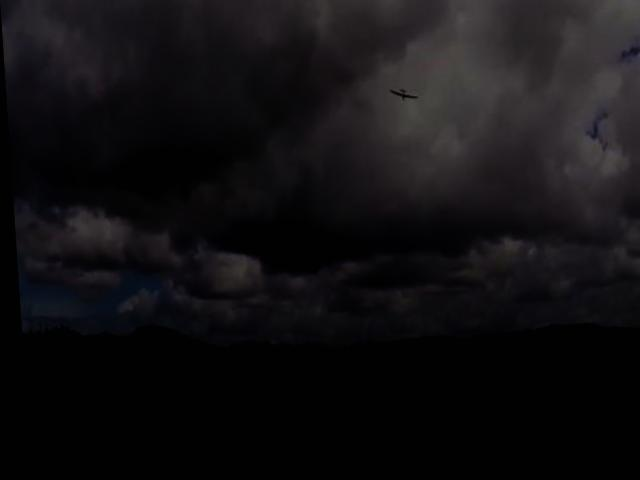iha: (386, 91, 417, 114)
